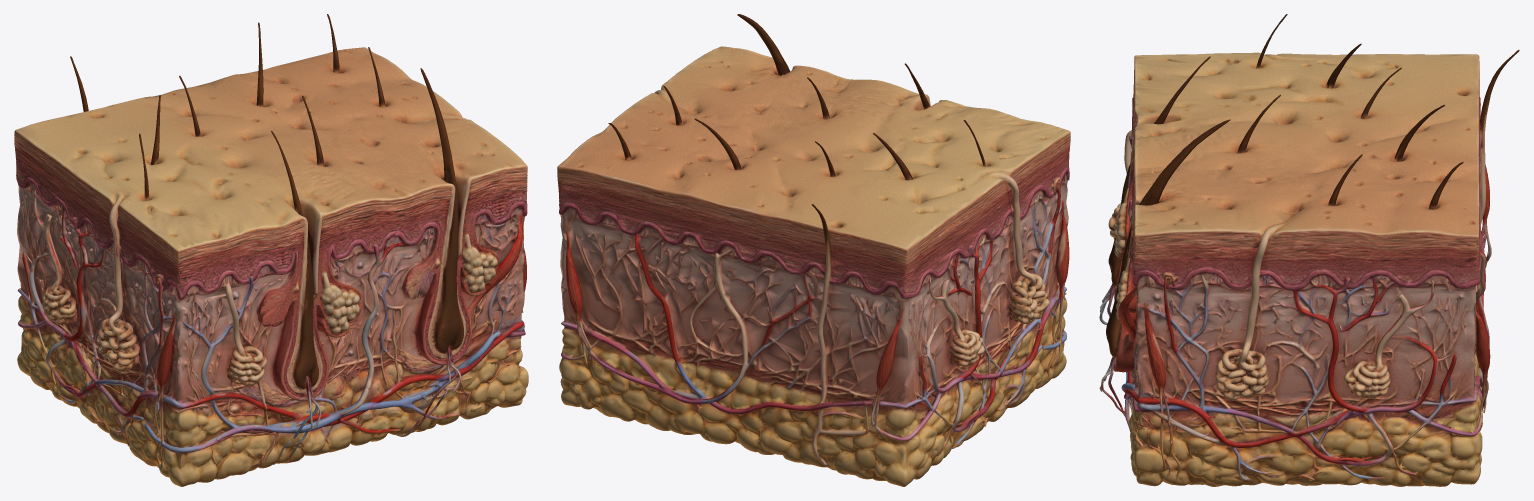
Rendered from organ-skin-interactive-lod.glb.
The picture shows the model from 3 angles, left to right: view 1: azimuth 30°, elevation 25°; view 2: azimuth 150°, elevation 25°; view 3: azimuth 270°, elevation 25°; orthographic projection. The views are drawn at different scales.
Parts seen in each view (by area): view 1: tripo_node_e5876caf-7f3d-4121-9468-4d7c567ae73f; view 2: tripo_node_e5876caf-7f3d-4121-9468-4d7c567ae73f; view 3: tripo_node_e5876caf-7f3d-4121-9468-4d7c567ae73f.
Boxes of the visible parts, box(x1,y1,x2,y2) form: tripo_node_e5876caf-7f3d-4121-9468-4d7c567ae73f: box(14, 14, 528, 486); tripo_node_e5876caf-7f3d-4121-9468-4d7c567ae73f: box(557, 14, 1070, 486); tripo_node_e5876caf-7f3d-4121-9468-4d7c567ae73f: box(1099, 14, 1519, 486).
Size of the model in its own units: 32111 by 25362 by 27946.
1 material, 1 textured.
